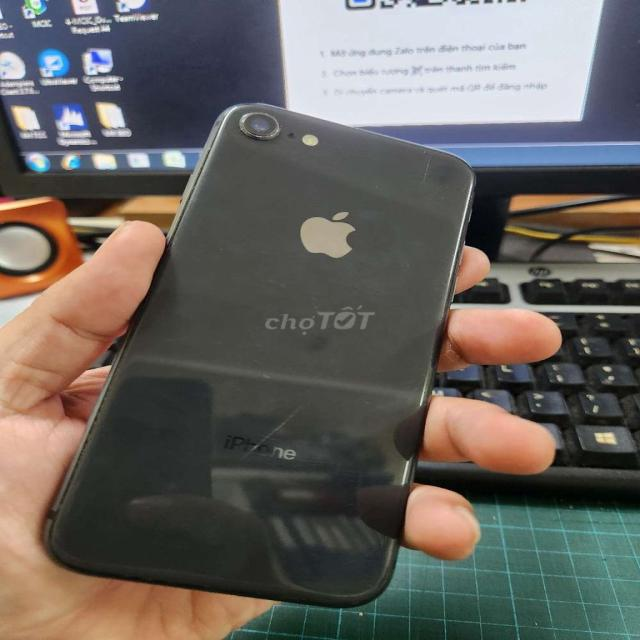gen_7_8: (36, 90, 466, 607)
